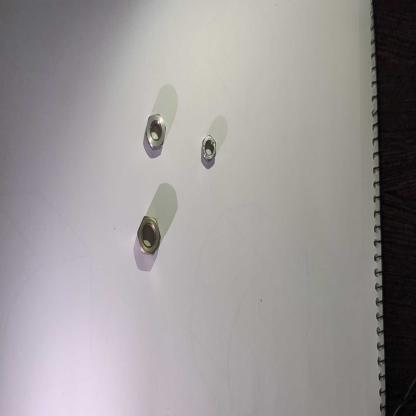NUTS: (137, 213, 162, 258), (144, 110, 168, 152), (200, 133, 218, 168)
